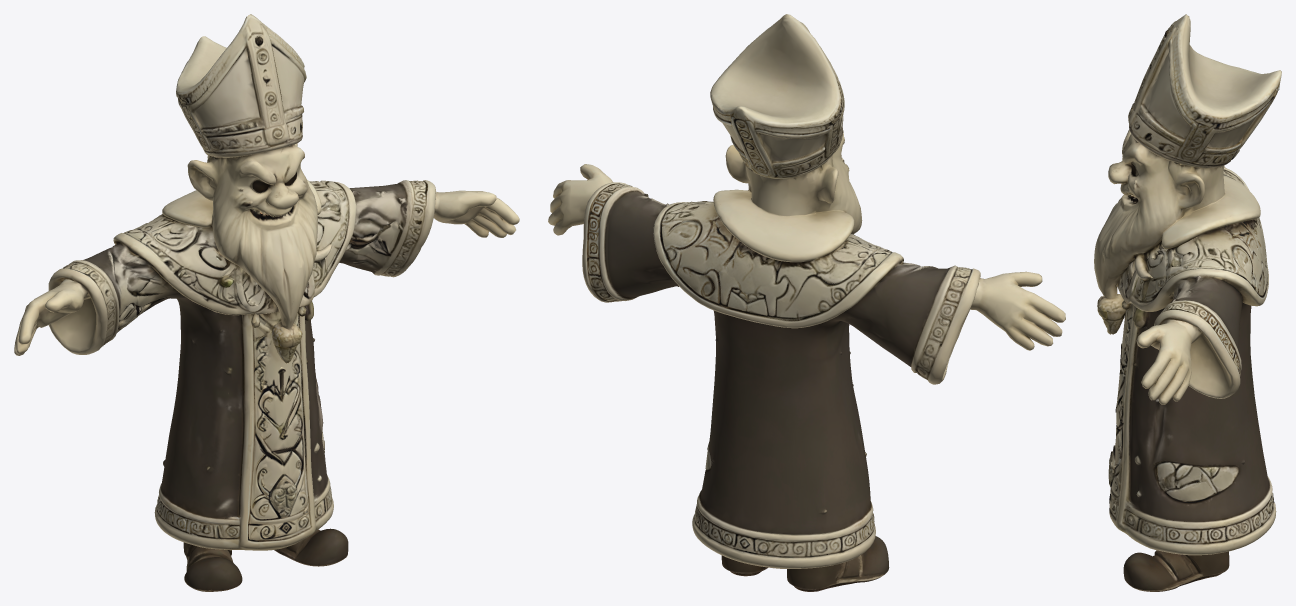
Rendered from the_gnome_pope.glb.
3 views of the same model, side by side, from view 1: azimuth 30°, elevation 25°; view 2: azimuth 150°, elevation 25°; view 3: azimuth 270°, elevation 25° (orthographic). The views are drawn at different scales.
Visible parts, largest first — view 1: tripo_node_a576330d-a530-4a68-91a4-f803fe73f94c; view 2: tripo_node_a576330d-a530-4a68-91a4-f803fe73f94c; view 3: tripo_node_a576330d-a530-4a68-91a4-f803fe73f94c.
Part boxes in pixels (box(x1,y1,x2,y2)): tripo_node_a576330d-a530-4a68-91a4-f803fe73f94c: box(14, 14, 519, 591); tripo_node_a576330d-a530-4a68-91a4-f803fe73f94c: box(548, 14, 1065, 591); tripo_node_a576330d-a530-4a68-91a4-f803fe73f94c: box(1094, 14, 1281, 591).
Bounding box in the file's own units: 0.9434 × 0.9776 × 0.3078.
1 material, 1 textured.
